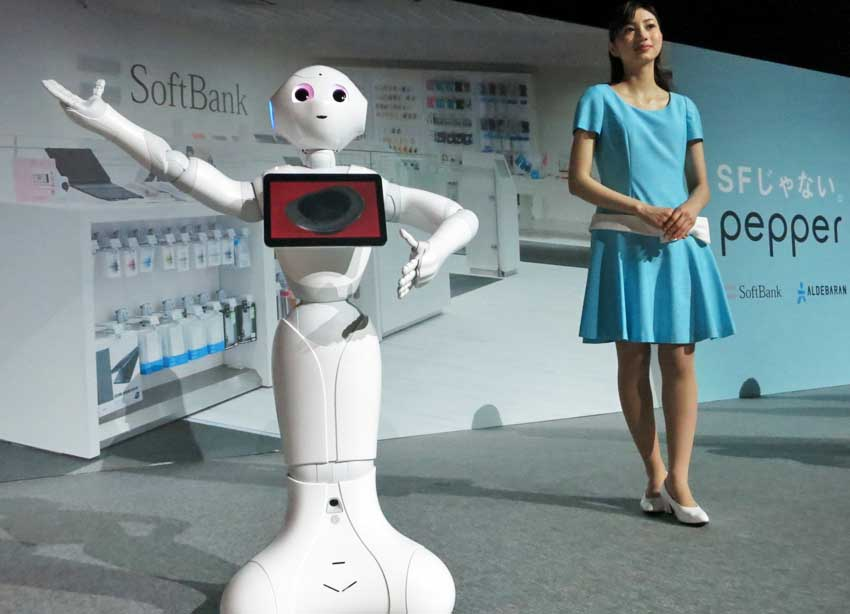person: (561, 3, 744, 534)
person-like: (34, 59, 486, 614)
